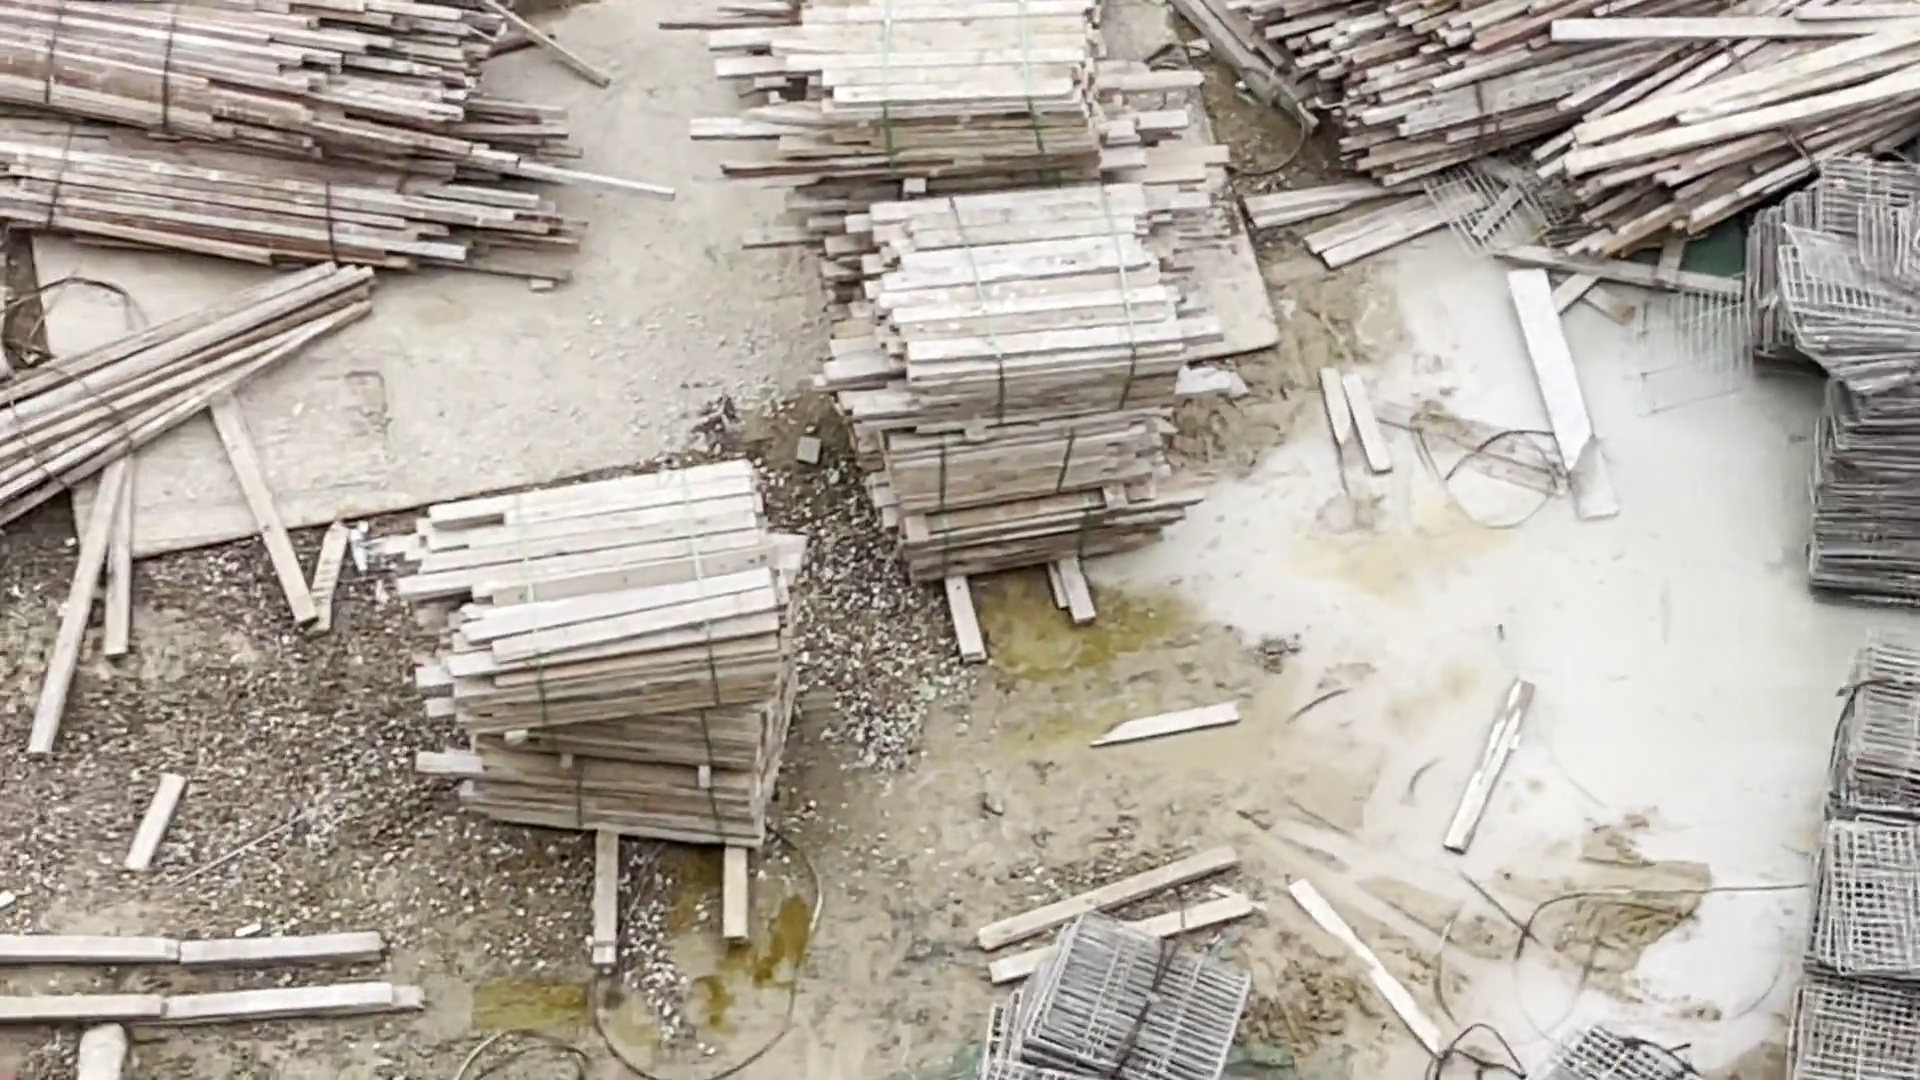wood: (4, 1, 597, 281), (436, 447, 795, 858), (1276, 1, 1920, 224), (828, 196, 1156, 547), (737, 1, 1151, 189), (9, 280, 363, 473)
